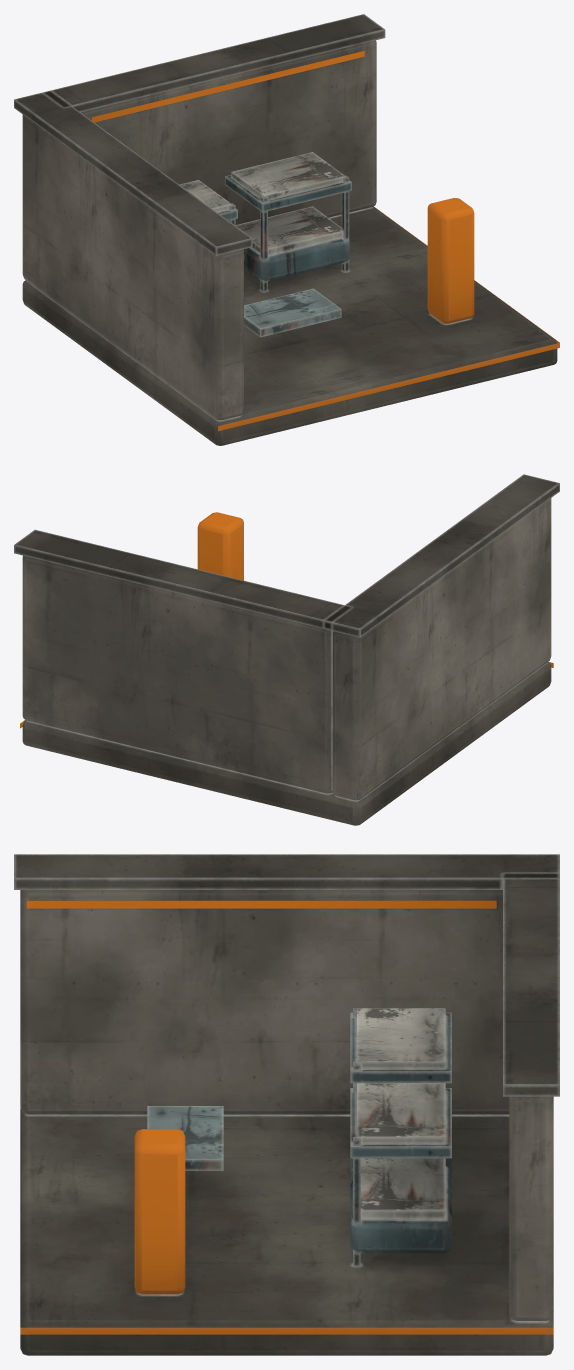
The model's file is habitat_t4.glb.
The picture shows the model from 3 angles, top to bottom: view 1: azimuth 30°, elevation 25°; view 2: azimuth 150°, elevation 25°; view 3: azimuth 270°, elevation 25°; orthographic projection. The views are drawn at different scales.
Visible parts, largest first — view 1: te_habitat_t4; view 2: te_habitat_t4; view 3: te_habitat_t4.
Part boxes in pixels (x1,y1,x2,y2): te_habitat_t4: (14,14,559,445); te_habitat_t4: (14,474,559,825); te_habitat_t4: (14,854,559,1355).
Size of the model in its own units: 0.86 by 0.48 by 0.86.
Materials: 1 (1 with a texture image).
